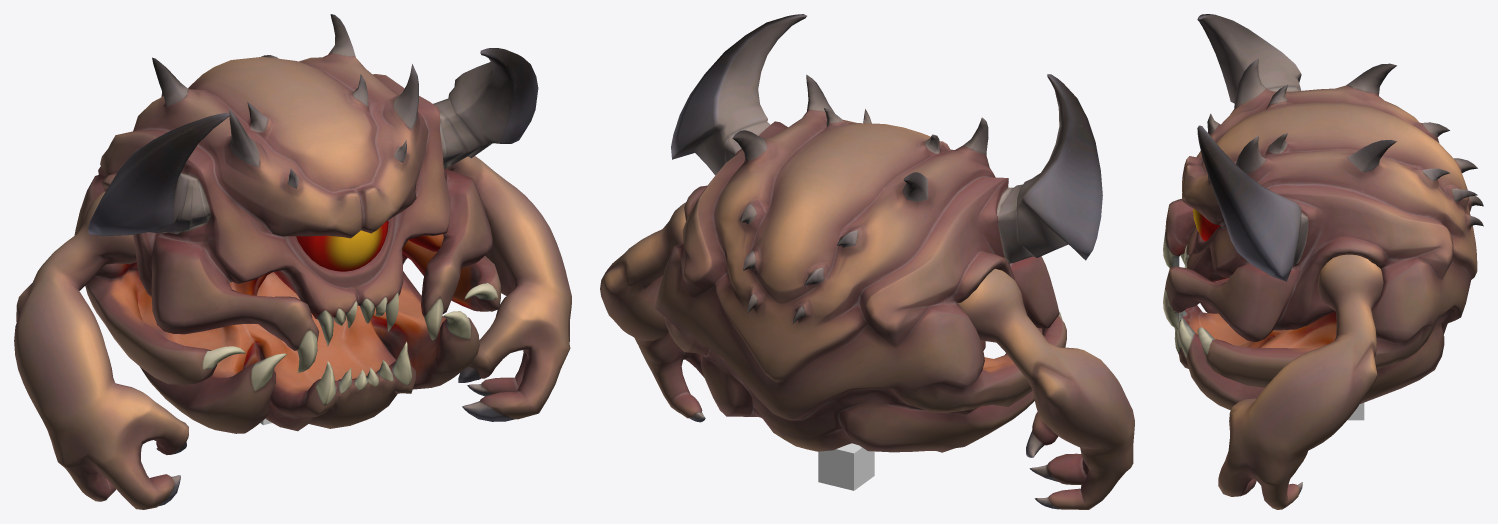
The model's file is Corrigido.glb.
3 renders of one model, left to right at view 1: azimuth 30°, elevation 25°; view 2: azimuth 150°, elevation 25°; view 3: azimuth 270°, elevation 25°, orthographic. The views are drawn at different scales.
Visible parts, largest first — view 1: Object_2; view 2: Object_2, Cube; view 3: Object_2.
Boxes of the visible parts, left/top/right/bottom form: Object_2: left=14, top=14, right=571, bottom=509; Object_2: left=600, top=14, right=1134, bottom=509; Cube: left=818, top=443, right=874, bottom=490; Object_2: left=1163, top=14, right=1483, bottom=509.
Size of the model in its own units: 28.28 by 20.47 by 17.13.
2 materials, 1 textured.
